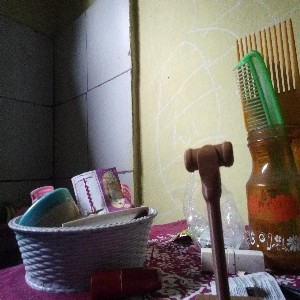palu: (184, 139, 234, 300)
